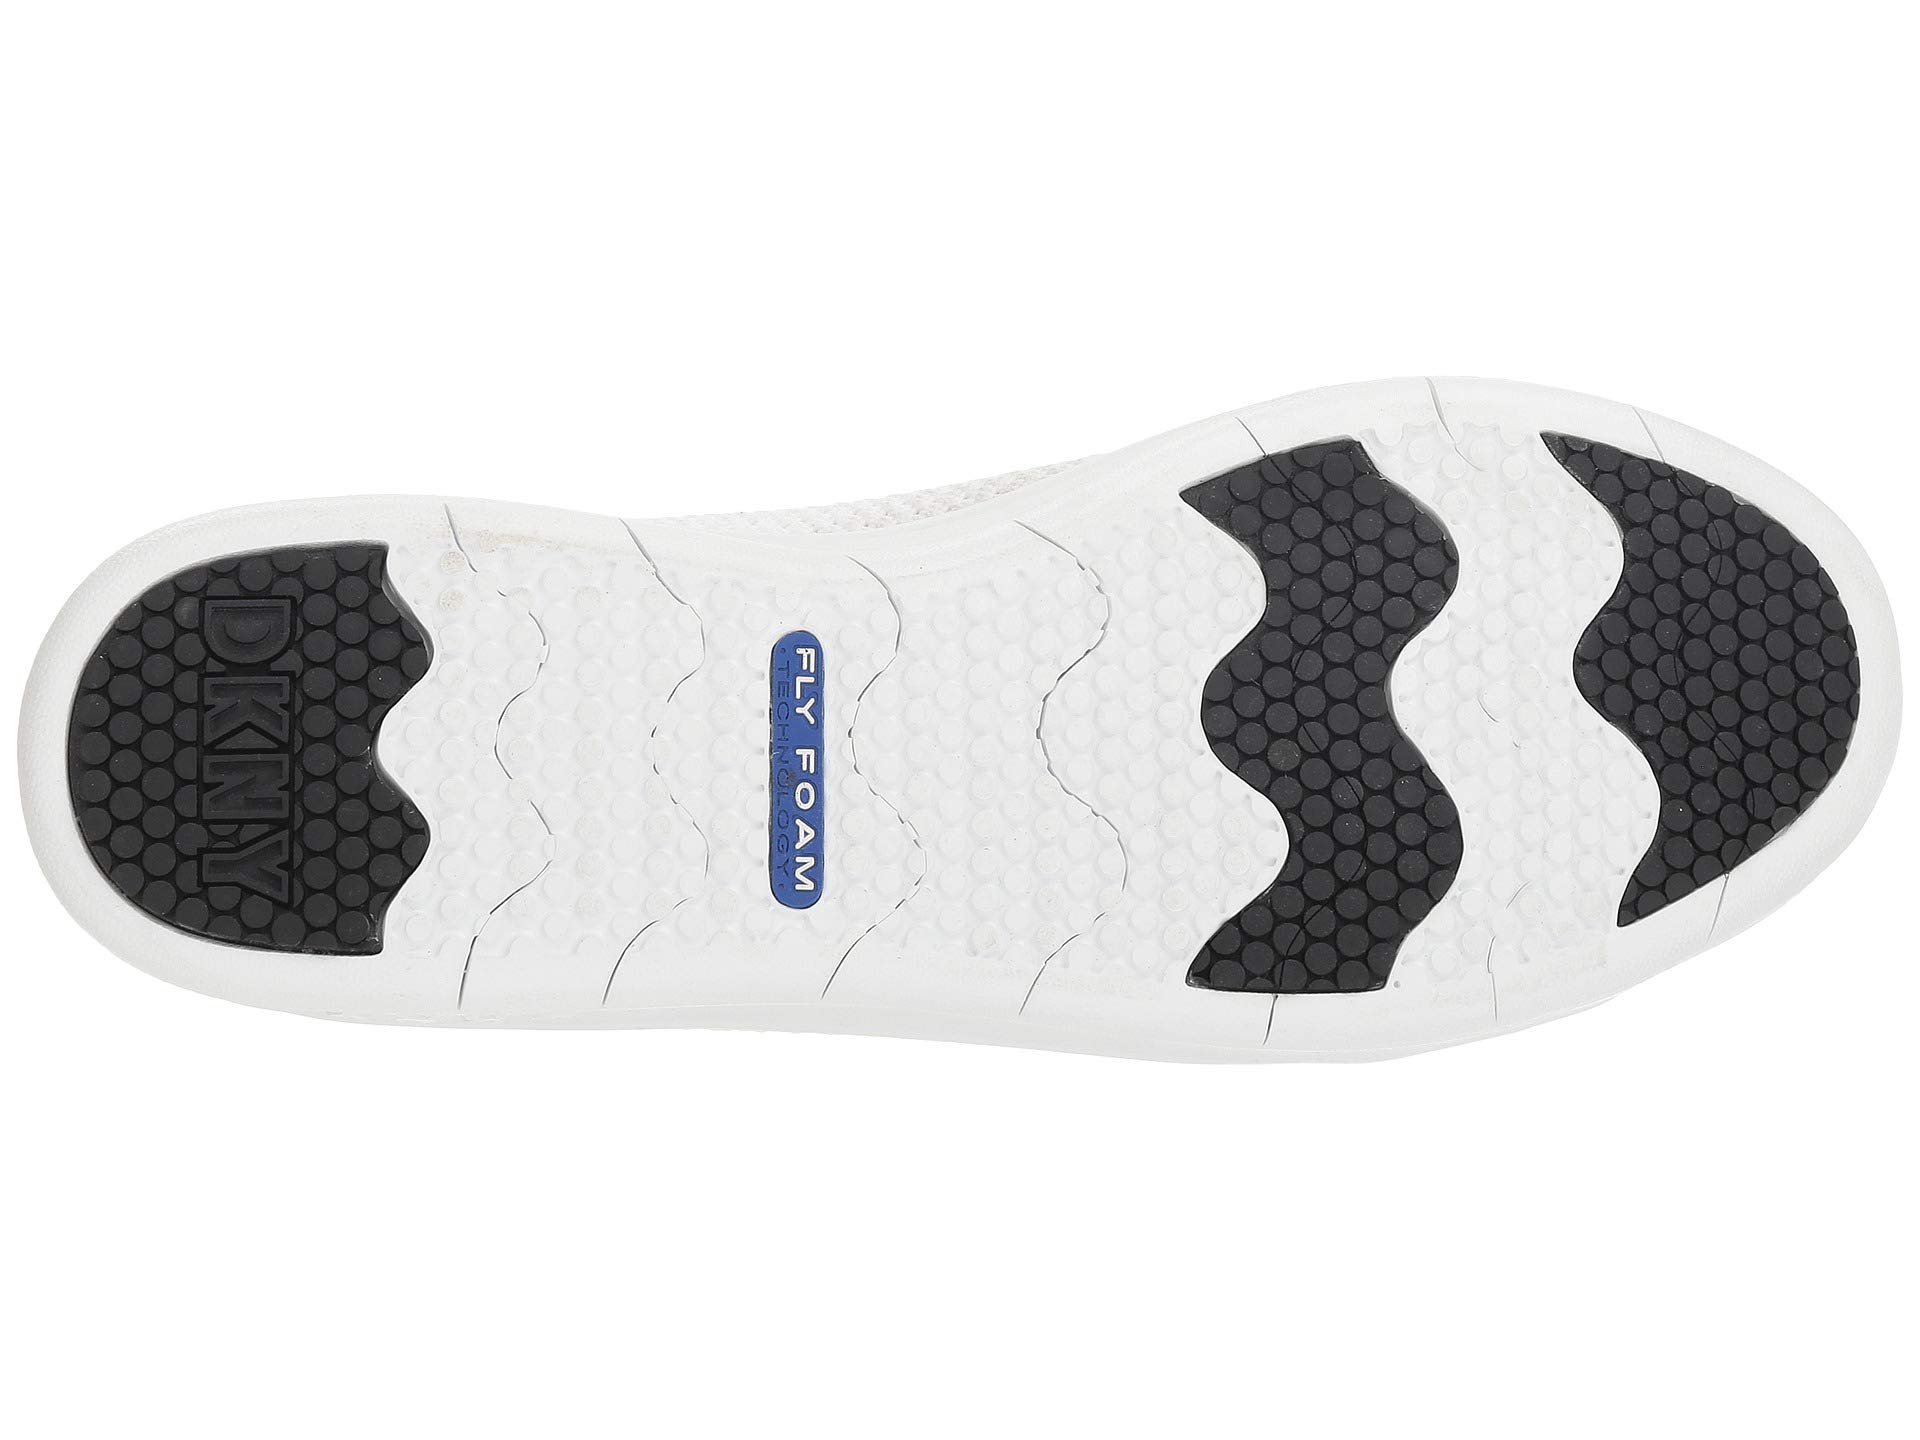chevron: (1296, 520, 1696, 862)
circle: (1296, 520, 1696, 862)
